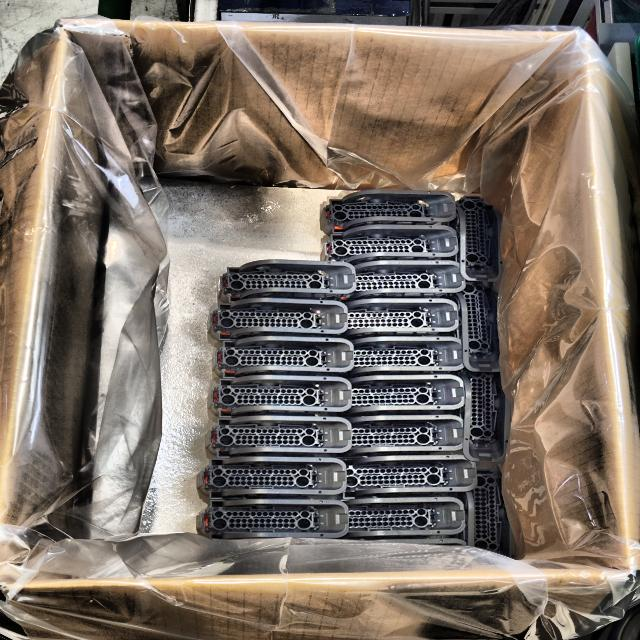P38: (320, 189, 457, 236), (207, 298, 348, 343), (197, 457, 348, 499), (216, 259, 356, 304), (204, 416, 353, 458), (197, 499, 349, 540), (208, 375, 351, 418), (212, 336, 354, 379), (343, 454, 478, 499), (321, 223, 459, 263), (336, 497, 466, 539), (446, 196, 505, 283), (459, 372, 513, 463), (344, 415, 464, 455), (343, 260, 466, 299), (468, 463, 516, 560), (452, 281, 503, 372), (343, 337, 464, 375), (347, 375, 464, 414), (339, 299, 459, 337), (367, 539, 466, 546)
